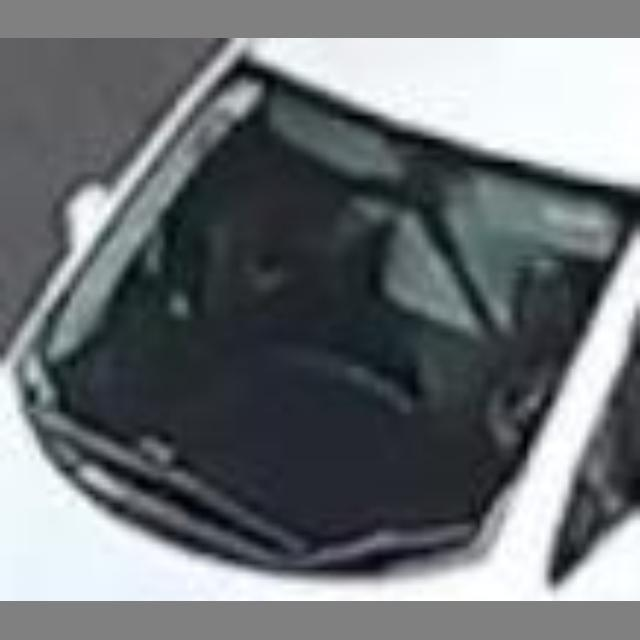pakai: (341, 144, 540, 379)
